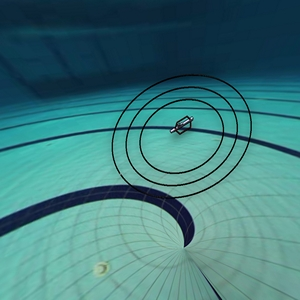circle: (105, 70, 258, 204)
submarine: (165, 111, 203, 145)
